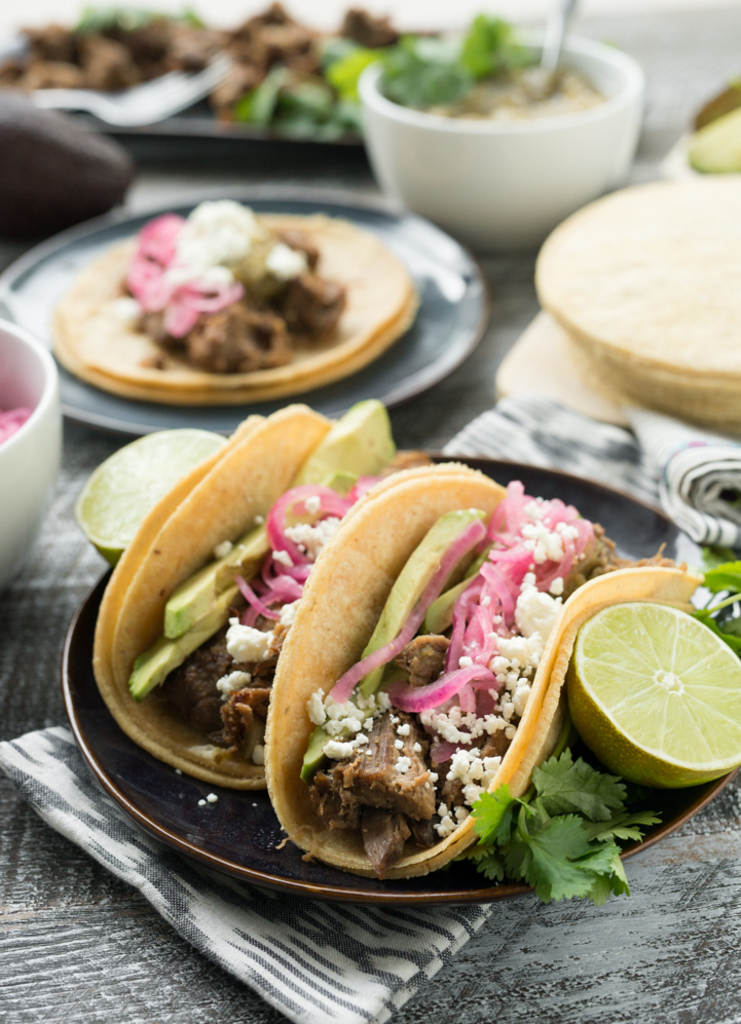taco: (260, 477, 705, 887), (82, 391, 442, 791)
